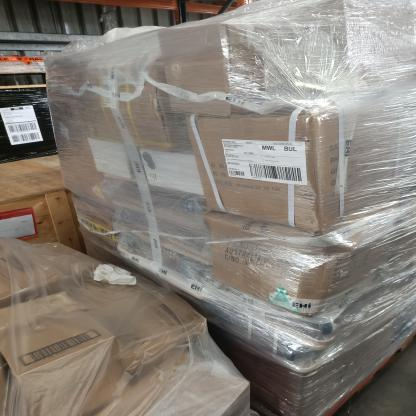label: (222, 134, 313, 193), (0, 104, 44, 145)
package: (183, 104, 416, 236), (201, 212, 416, 317), (151, 22, 351, 81), (113, 201, 211, 272), (88, 138, 199, 194), (96, 76, 176, 147), (51, 126, 112, 206), (162, 60, 238, 119), (46, 60, 96, 124)
